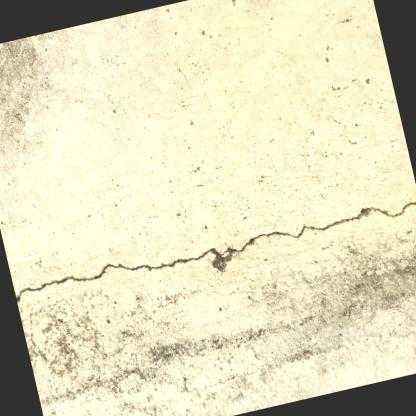crack: (15, 196, 416, 299)
